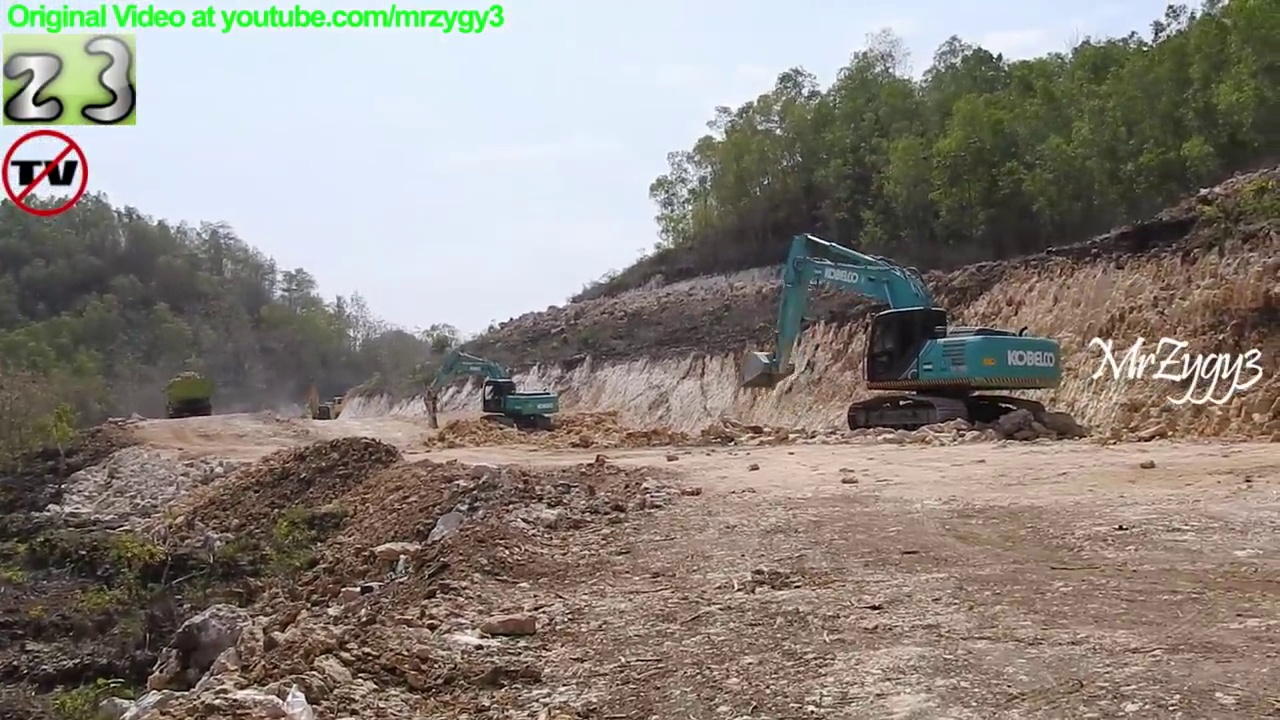excavator: (733, 227, 1068, 438), (324, 379, 371, 421), (303, 382, 336, 424)
excavator breaker: (422, 343, 562, 437)
truck: (161, 369, 219, 423)
